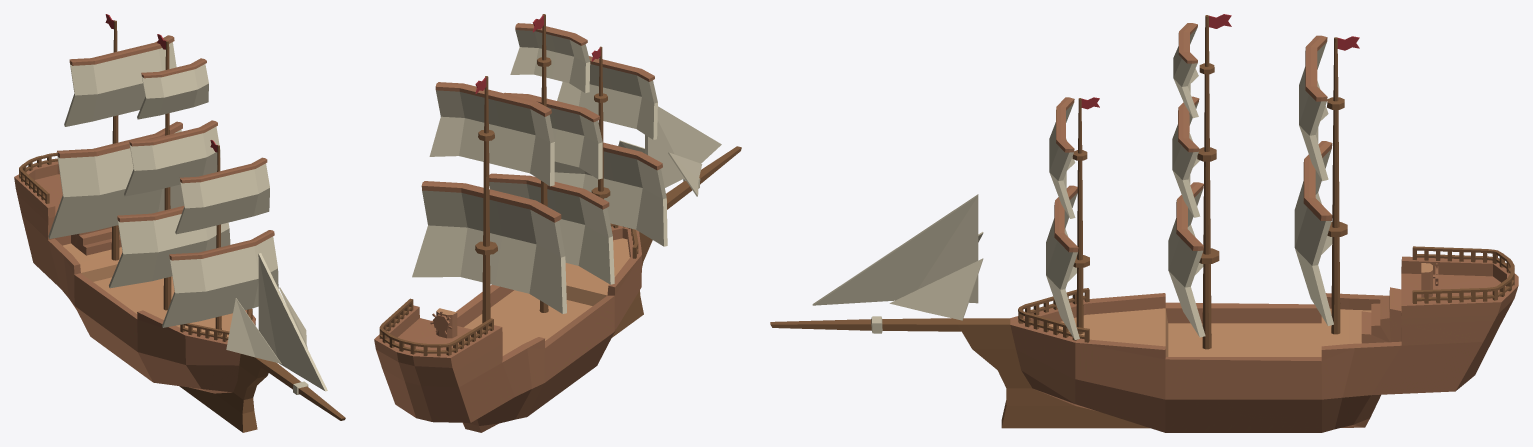
File: ship.glb
3 views of the same model, side by side, from view 1: azimuth 30°, elevation 25°; view 2: azimuth 150°, elevation 25°; view 3: azimuth 270°, elevation 25° (orthographic). The views are drawn at different scales.
Parts seen in each view (by area): view 1: BackSail; view 2: BackSail; view 3: BackSail.
Part boxes in pixels (bbox=[...]): BackSail: bbox=[14, 14, 345, 432]; BackSail: bbox=[374, 14, 741, 432]; BackSail: bbox=[770, 14, 1518, 432].
Size of the model in its own units: 1.7 by 3.85 by 6.38.
Materials: 1 (1 with a texture image).
